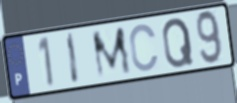1: (37, 35, 56, 89)
9: (195, 8, 225, 68)
C: (128, 22, 161, 74)
I: (65, 31, 82, 86)
M: (90, 24, 134, 82)
Q: (161, 15, 196, 70)
